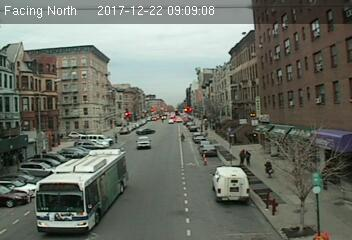bus: (31, 147, 131, 234)
car: (198, 144, 218, 157), (136, 136, 152, 150)
pedestrian: (260, 159, 273, 177), (246, 150, 250, 164)
truck: (213, 164, 249, 205)
